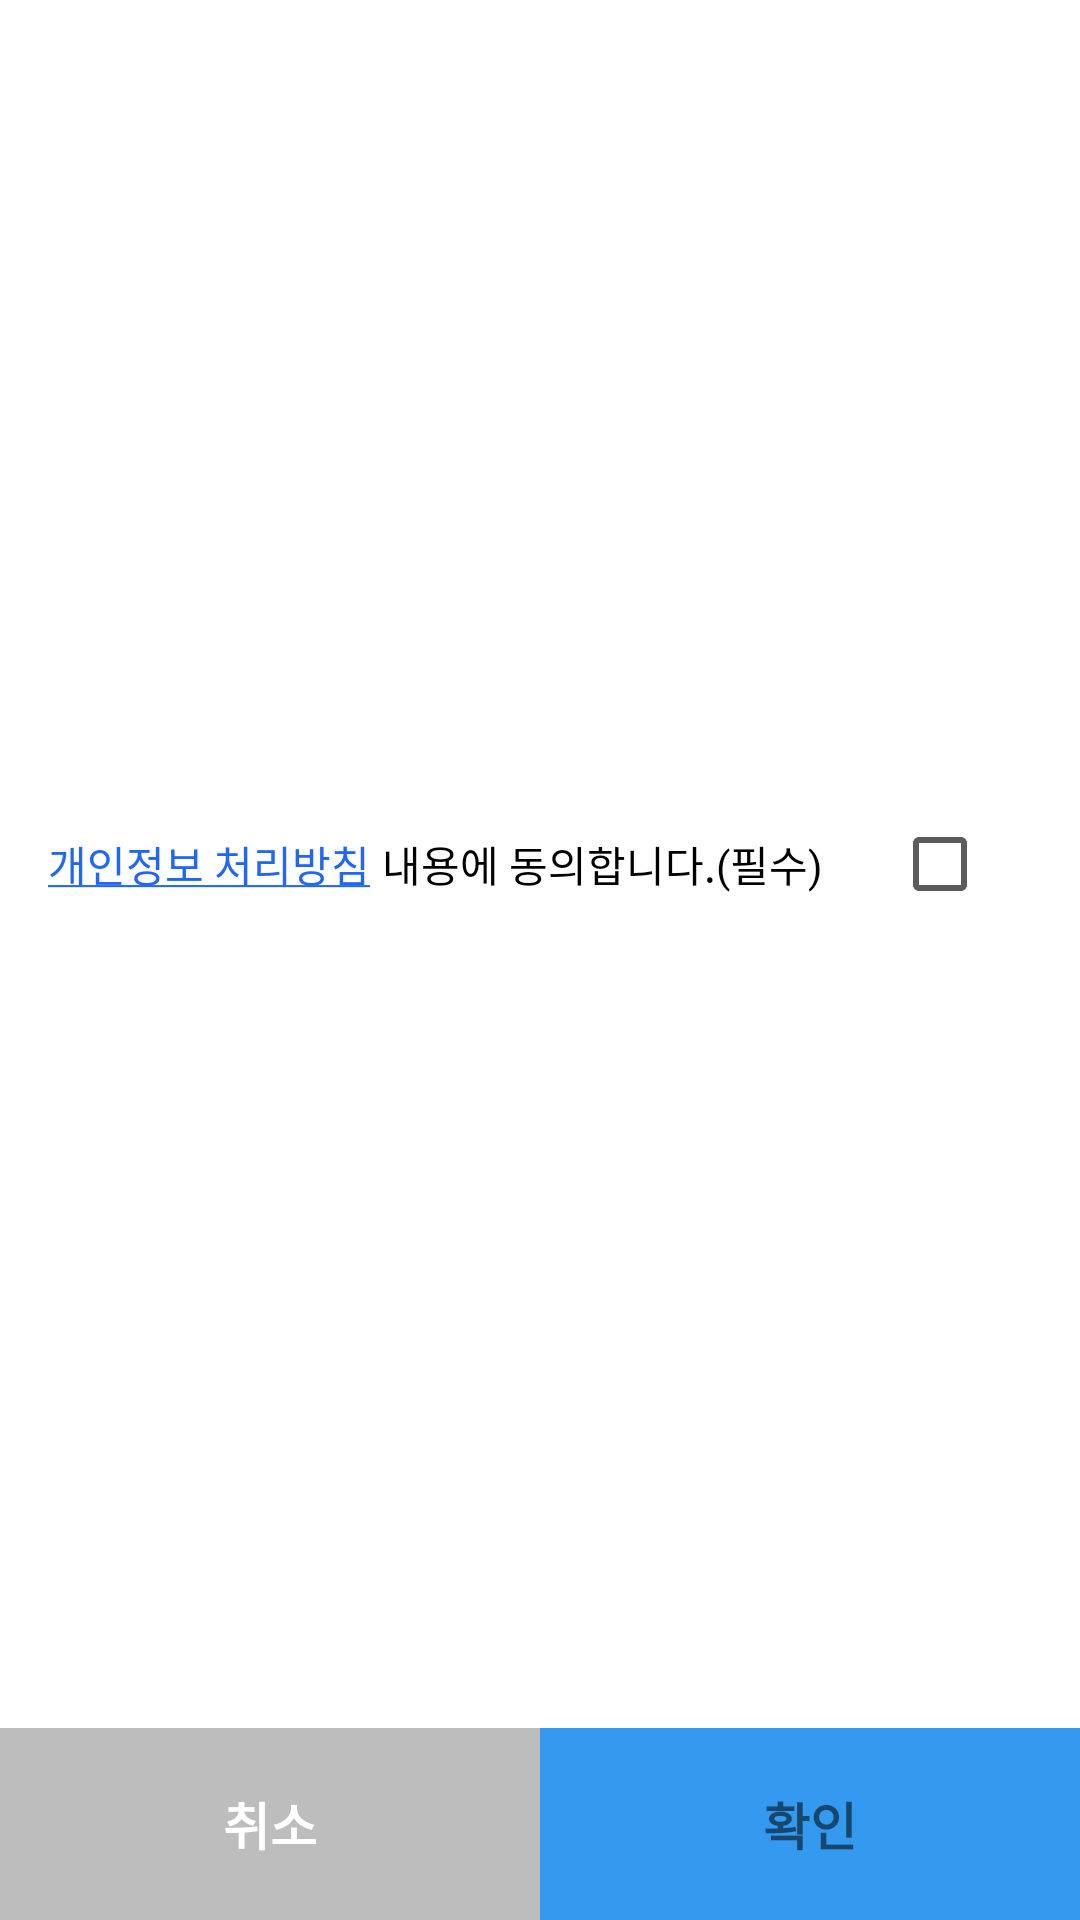

Icons on this 1080*1920 Android screen, each with the point to tap as [x,y]:
check box: [940,864]
